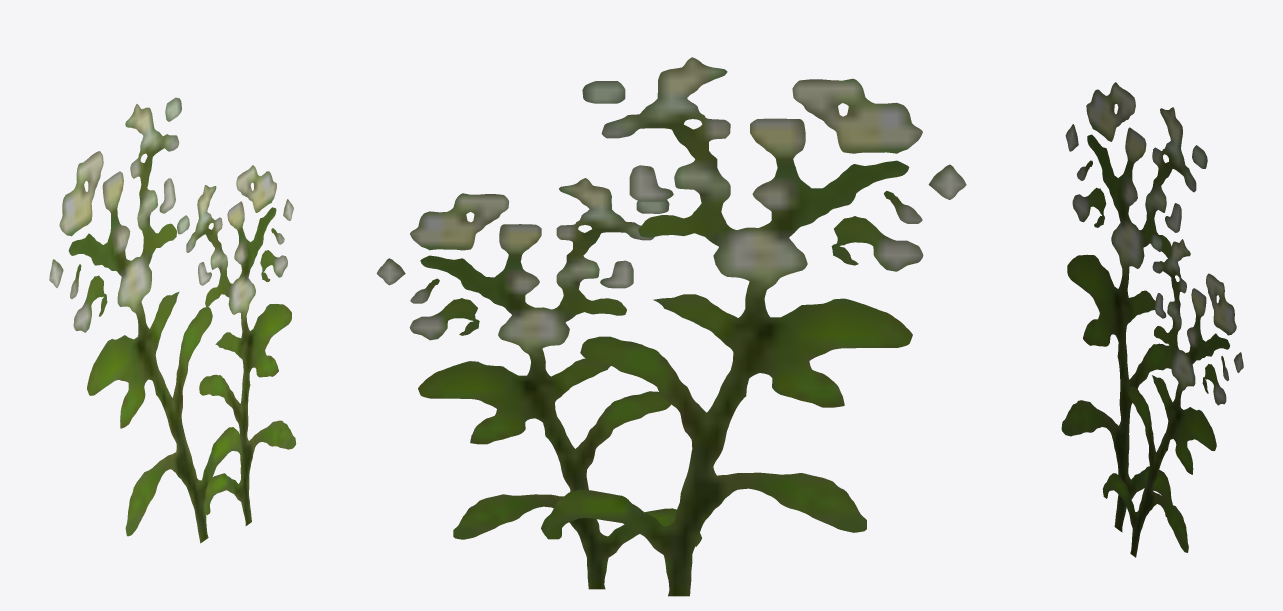
3 views of the same model, side by side, from view 1: azimuth 30°, elevation 25°; view 2: azimuth 150°, elevation 25°; view 3: azimuth 270°, elevation 25° (orthographic). The views are drawn at different scales.
Visible parts, largest first — view 1: mesh_22; view 2: mesh_22; view 3: mesh_22.
Boxes of the visible parts, x1=… form: mesh_22: x1=49, y1=97, x2=296, y2=543; mesh_22: x1=376, y1=57, x2=966, y2=596; mesh_22: x1=1061, y1=82, x2=1243, y2=557.
Size of the model in its own units: 0.6168 by 0.6965 by 0.3212.
